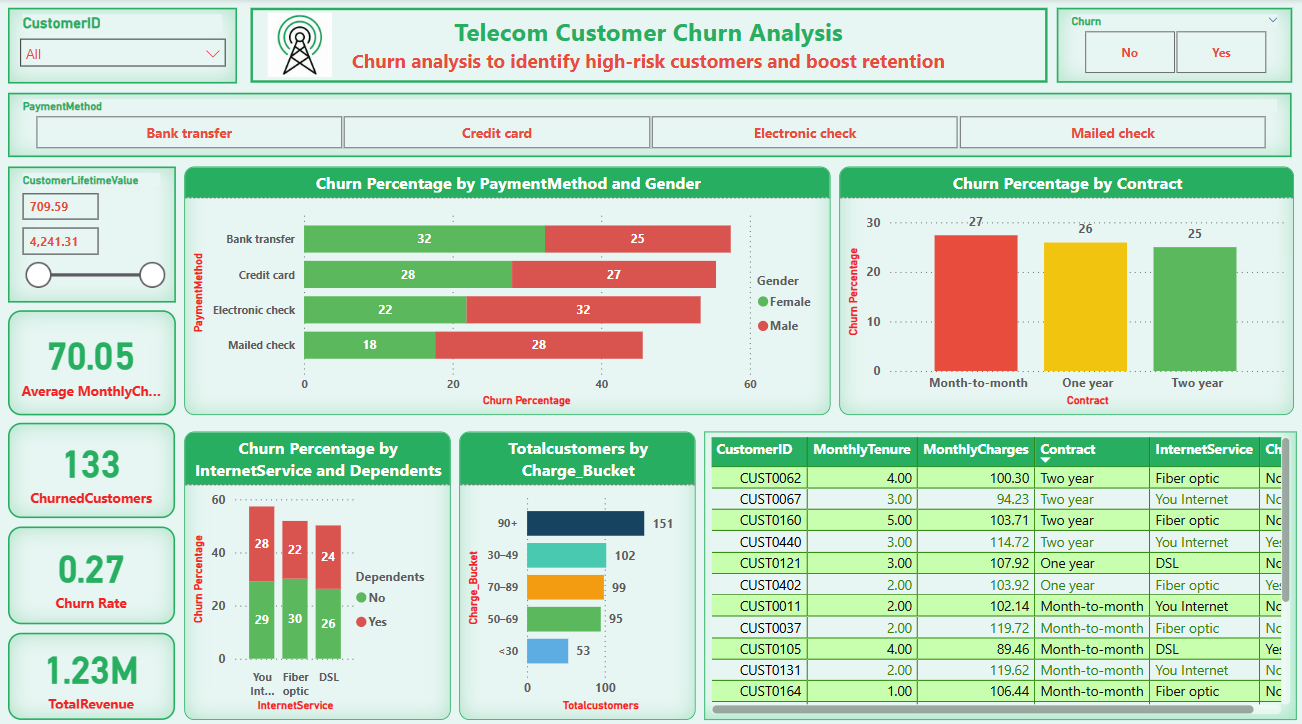

Layout of this report page (visuals, bound fields, positions):
{"tool":"powerbi","page":{"name":"Page 3","canvas":[1280,720],"ordinal":1},"visuals":[{"type":"columnChart","fields":{"Category":["Customerdata.InternetService"],"Y":["Customerdata.Churn Percentage"],"Series":["Customerdata.Dependents"]},"box":[182.8,424.5,261.4,283.4],"z":0},{"type":"tableEx","fields":{"Values":["Customerdata.CustomerID","Customerdata.MonthlyTenure","Customerdata.MonthlyCharges","Customerdata.Contract","Customerdata.InternetService","Customerdata.Churn"]},"box":[693.3,424.5,581.6,283.4],"z":1000},{"type":"columnChart","fields":{"Category":["Customerdata.Contract"],"Y":["Customerdata.Churn Percentage"]},"box":[826,164.4,446.6,244.2],"z":2000},{"type":"barChart","fields":{"Category":["Customerdata.Charge_Bucket"],"Y":["Customerdata.Totalcustomers"]},"box":[452.8,424.5,231.9,283.4],"z":3000},{"type":"textbox","box":[247.5,8.7,782.5,73.4],"z":4000},{"type":"image","box":[247.5,8.7,97,73.4],"z":5000},{"type":"slicer","fields":{"Values":["Customerdata.PaymentMethod"]},"box":[10,92.1,1260.1,63.4],"z":6000},{"type":"slicer","fields":{"Values":["Customerdata.CustomerID"]},"box":[10,8.7,225.2,74.6],"z":7000},{"type":"slicer","fields":{"Values":["Customerdata.Churn"]},"box":[1038.7,8.7,231.4,73.4],"z":8000},{"type":"slicer","fields":{"Values":["Customerdata.CLTV"]},"box":[9.8,164.4,164.4,133.7],"z":9000},{"type":"card","fields":{"Values":["Avg(Customerdata.MonthlyCharges)"]},"box":[9.8,305.5,164.4,103.1],"z":10000},{"type":"card","fields":{"Values":["Customerdata.ChurnedCustomers"]},"box":[10,416,164.2,93.3],"z":11000},{"type":"card","fields":{"Values":["Customerdata.Churn Rate"]},"box":[10,517.5,164.2,95.8],"z":12000},{"type":"card","fields":{"Values":["Sum(Customerdata.TotalRevenue)"]},"box":[10,622,164.2,85.8],"z":13000},{"type":"barChart","fields":{"Category":["Customerdata.PaymentMethod"],"Y":["Customerdata.Churn Percentage"],"Series":["Customerdata.Gender"]},"box":[182.8,164.4,634.4,244.2],"z":14000}]}

Visuals, with their boxes in screenshot pixels (x1, y1, x2, y2), scaled from the page's 1280x720 canvas onto the 1302x724 screenshot:
columnChart - Customerdata.InternetService x Customerdata.Churn Percentage: 186,427,452,712
tableEx - Customerdata.CustomerID x Customerdata.MonthlyTenure: 705,427,1297,712
columnChart - Customerdata.Contract x Customerdata.Churn Percentage: 840,165,1294,411
barChart - Customerdata.Charge_Bucket x Customerdata.Totalcustomers: 461,427,696,712
textbox: 252,9,1048,83
image: 252,9,350,83
slicer - Customerdata.PaymentMethod: 10,93,1292,156
slicer - Customerdata.CustomerID: 10,9,239,84
slicer - Customerdata.Churn: 1057,9,1292,83
slicer - Customerdata.CLTV: 10,165,177,300
card - Avg(Customerdata.MonthlyCharges): 10,307,177,411
card - Customerdata.ChurnedCustomers: 10,418,177,512
card - Customerdata.Churn Rate: 10,520,177,617
card - Sum(Customerdata.TotalRevenue): 10,625,177,712
barChart - Customerdata.PaymentMethod x Customerdata.Churn Percentage: 186,165,831,411
